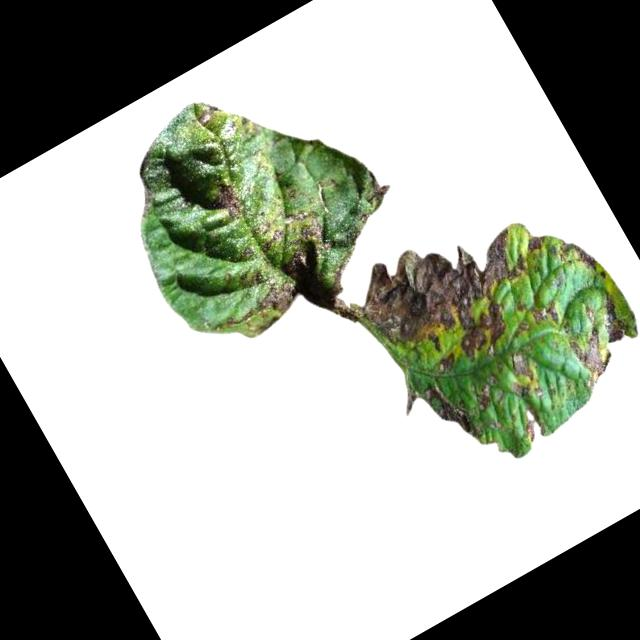Early_blight: (345, 194, 562, 398), (190, 193, 358, 343), (397, 372, 485, 465), (562, 319, 621, 387), (586, 287, 636, 345), (568, 232, 609, 285), (205, 177, 248, 225), (465, 371, 509, 417), (511, 401, 553, 446), (505, 345, 541, 386), (528, 297, 565, 332), (524, 230, 549, 253), (509, 377, 532, 400), (192, 103, 215, 125)
